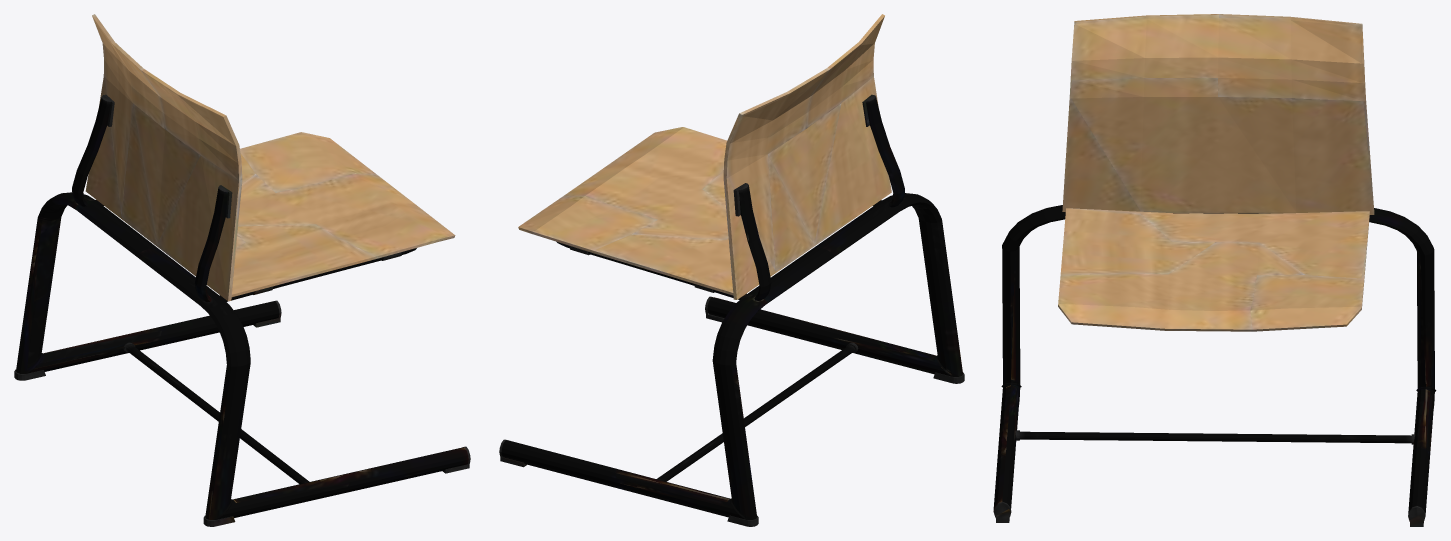
Rendered from chair_1.glb.
3 renders of one model, left to right at view 1: azimuth 30°, elevation 25°; view 2: azimuth 150°, elevation 25°; view 3: azimuth 270°, elevation 25°, orthographic. The views are drawn at different scales.
Visible parts, largest first — view 1: chair_1; view 2: chair_1; view 3: chair_1.
Part boxes in pixels (bbox=[...]): chair_1: bbox=[14, 14, 470, 526]; chair_1: bbox=[499, 14, 964, 526]; chair_1: bbox=[993, 14, 1436, 526].
Size of the model in its own units: 1.51 by 1.9 by 1.93.
1 material, 1 textured.
